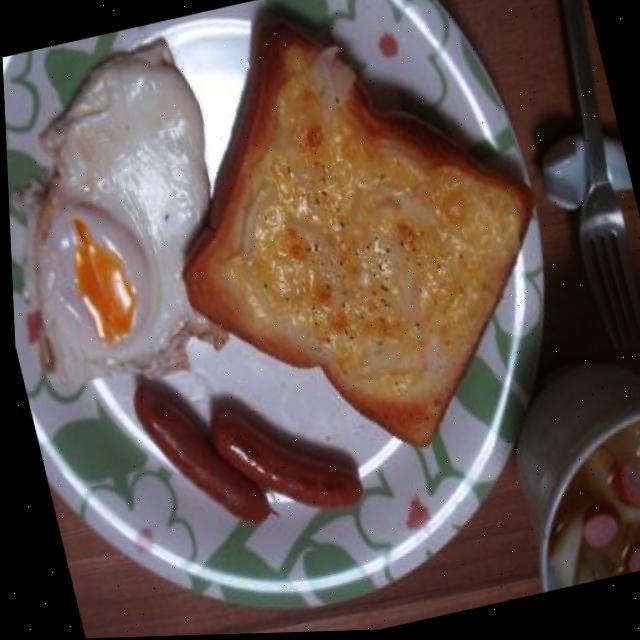面包点心: (127, 2, 585, 521)
